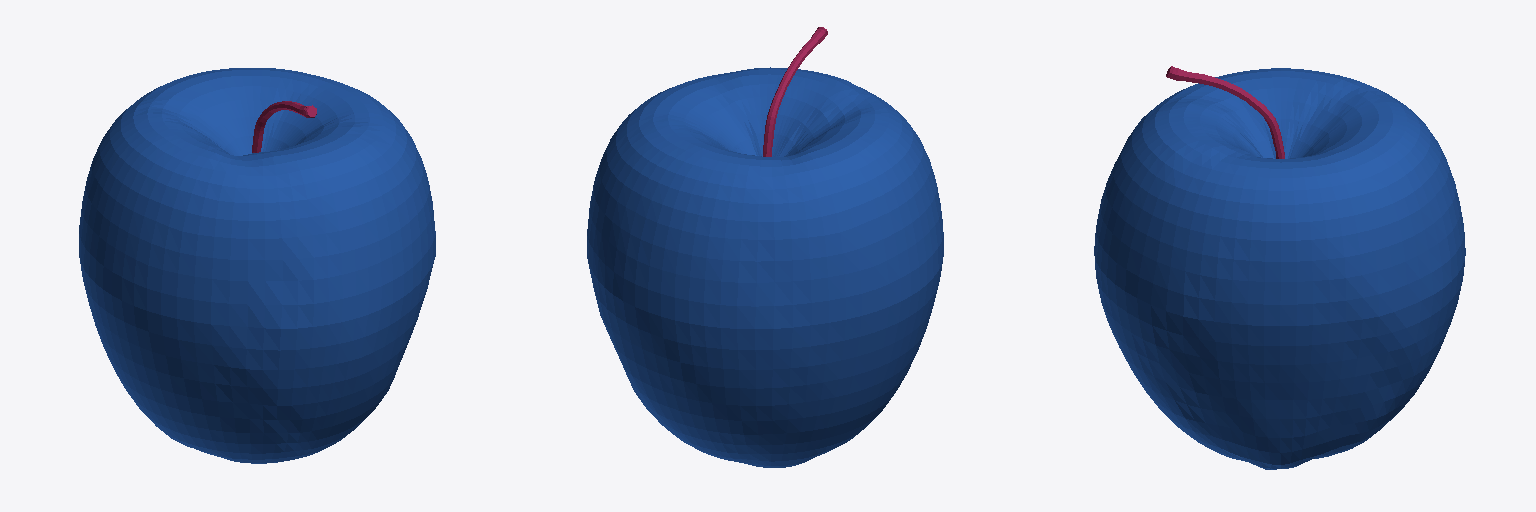
The model's file is apple.obj.
3 renders of one model, left to right at view 1: azimuth 30°, elevation 25°; view 2: azimuth 150°, elevation 25°; view 3: azimuth 270°, elevation 25°, orthographic.
Visible parts, largest first — view 1: apple_skin, apple_stem; view 2: apple_skin, apple_stem; view 3: apple_skin, apple_stem.
Part boxes in pixels (x1,y1,x2,y2): apple_skin: (79,68,435,463); apple_stem: (252,101,316,152); apple_skin: (587,67,943,467); apple_stem: (763,27,827,156); apple_skin: (1094,68,1465,469); apple_stem: (1166,66,1284,158).
Bounding box in the file's own units: 0.6538 × 0.7756 × 0.6895.